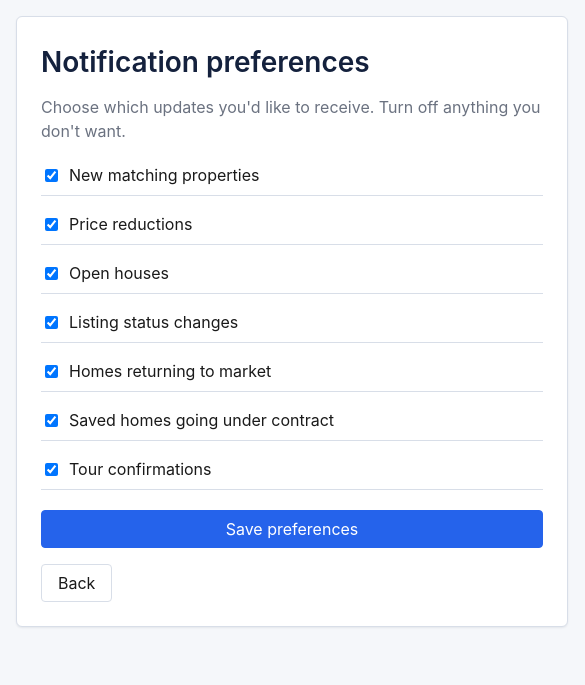
Test: NotificationPreferencesPage › toggles a preference off and saves it
Click the checkbox labelled "Tour confirmations" at coordinates (52, 469), box [45,462,58,476]
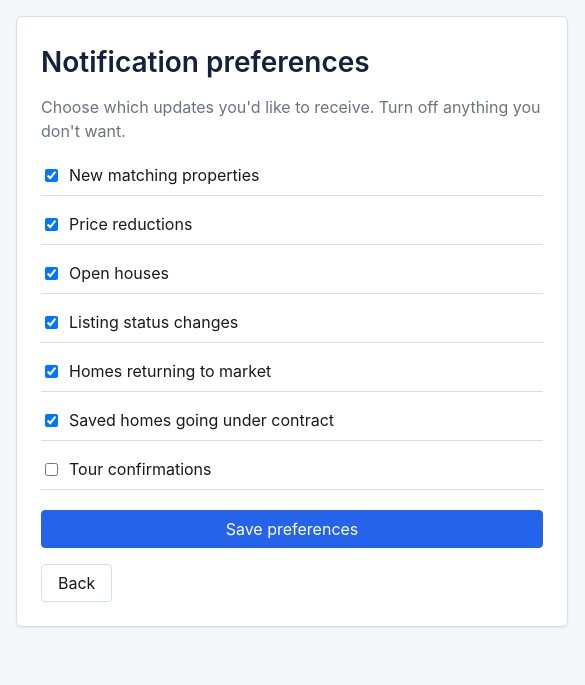
Click the button "Save preferences" at coordinates (292, 529), box [41,510,543,548]
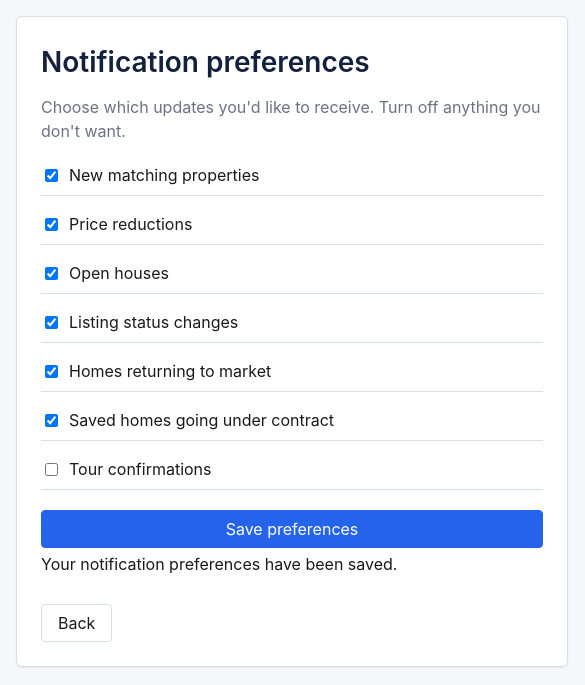
Expected: the checkbox labelled "Tour confirmations" is not checked, [45,462,58,476]
Expected: the text "Your notification preferences have been saved." is shown, [41,554,398,574]
